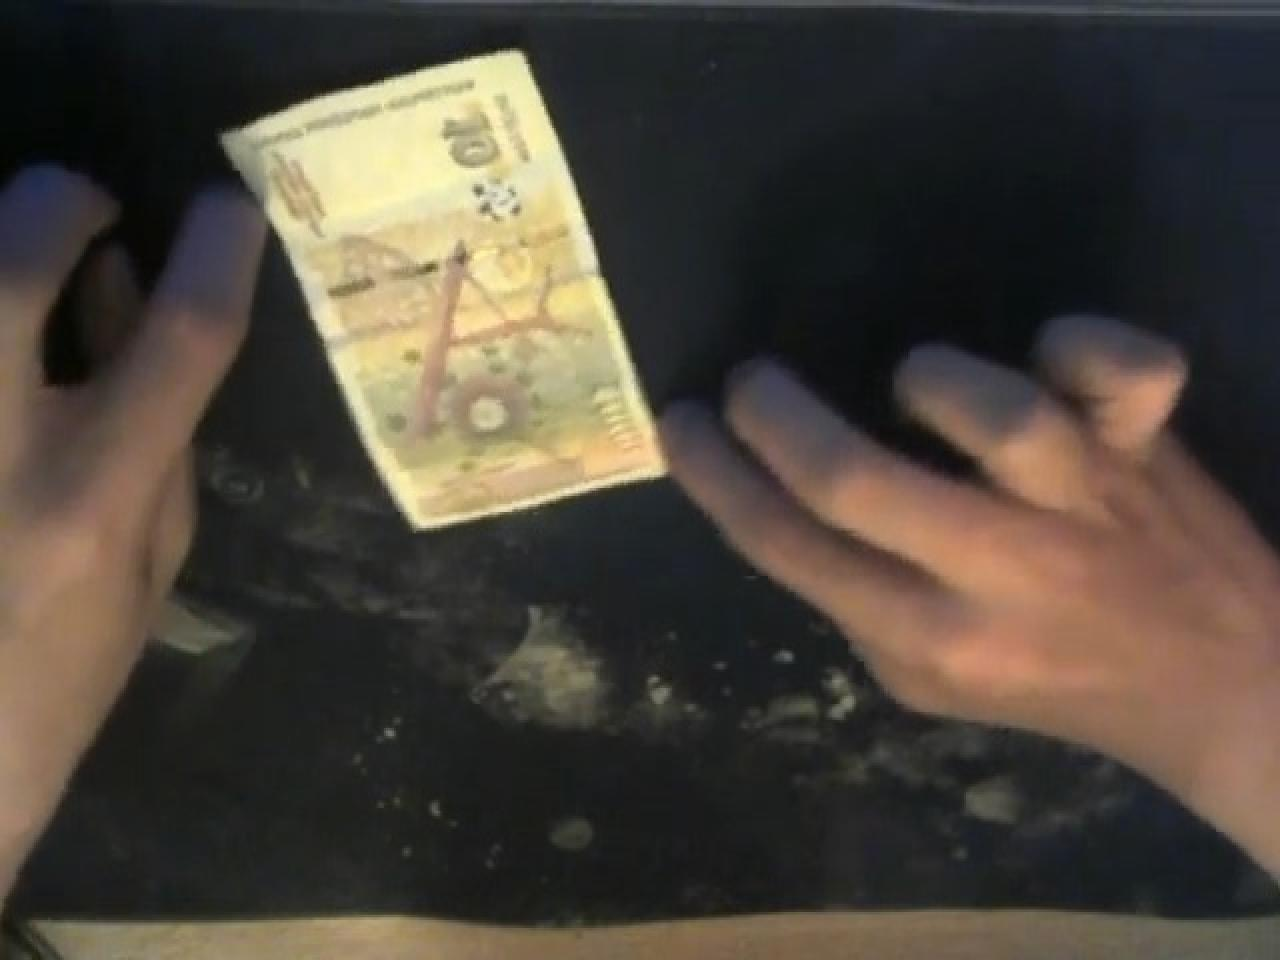10leva: (218, 42, 666, 528)
